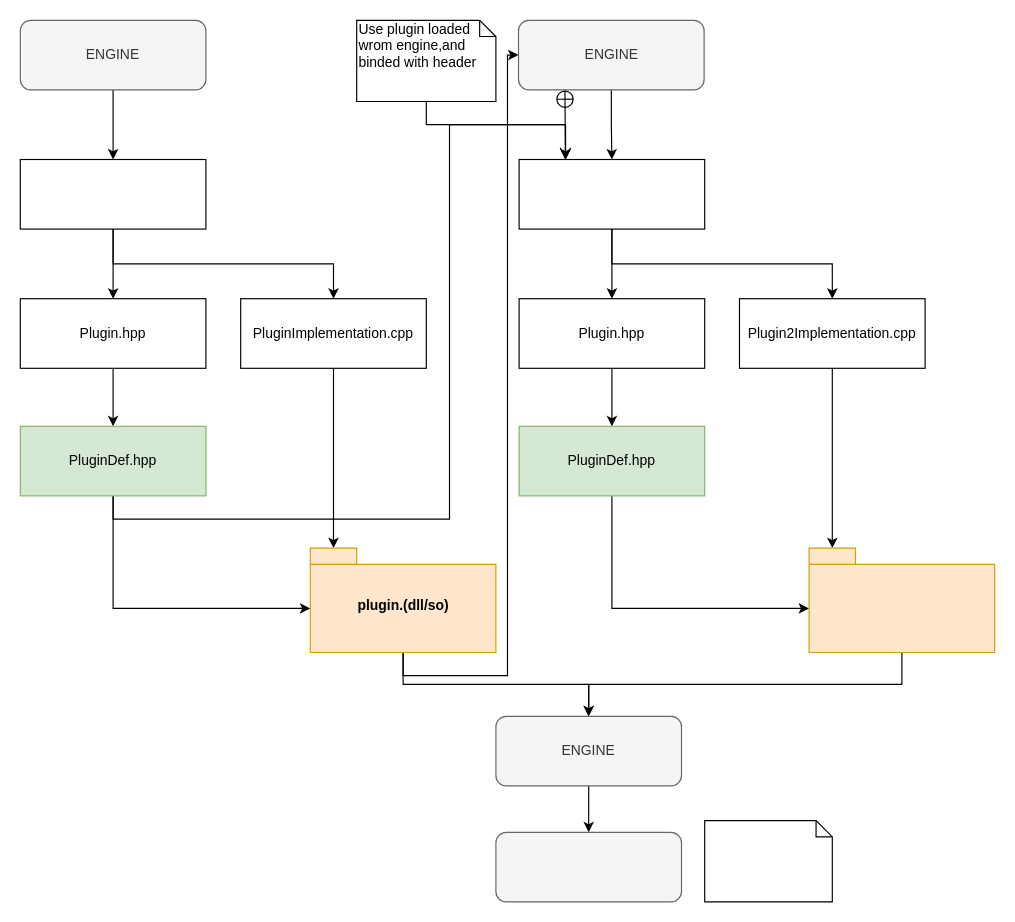
The diagram is 1015 pixels wide and 922 high, and some of its shapes have lost their labels. The centre of each missing label's shape, as x and y in pixels:
"Game" belongs at pixel 588 866.
"Game use plugin functional within event system" belongs at pixel 768 861.
"plugin2.(dll/so)" belongs at pixel 901 599.
"Plugin2Header.hpp" belongs at pixel 611 193.
"PluginHeader.hpp" belongs at pixel 112 193.
